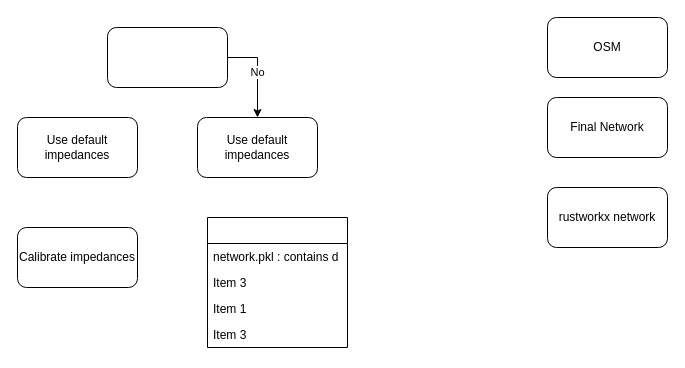
The diagram is 685 pixels wide and 368 high, and some of its shapes have lost their labels. Each missing label, with the box of its shape:
GPS Traces?: (106, 26, 228, 88)
Network Files: (206, 216, 348, 348)
